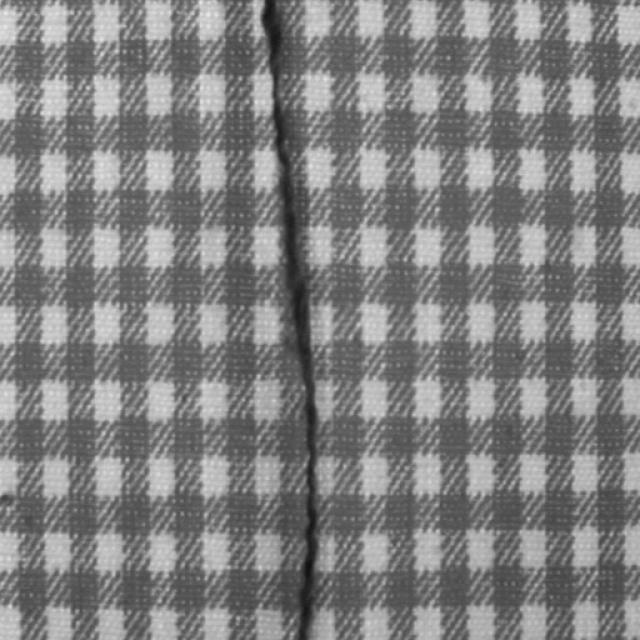Foreign-Body-Defect: (256, 0, 320, 639)
